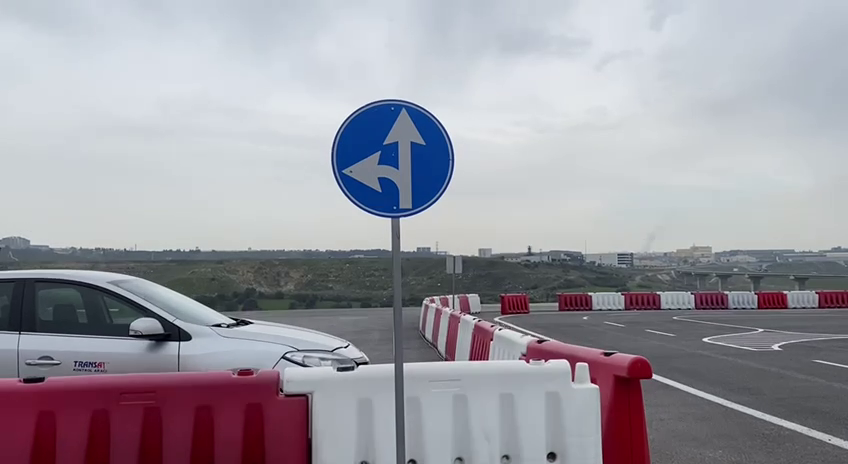forwardAndLeft: (329, 96, 458, 223)
